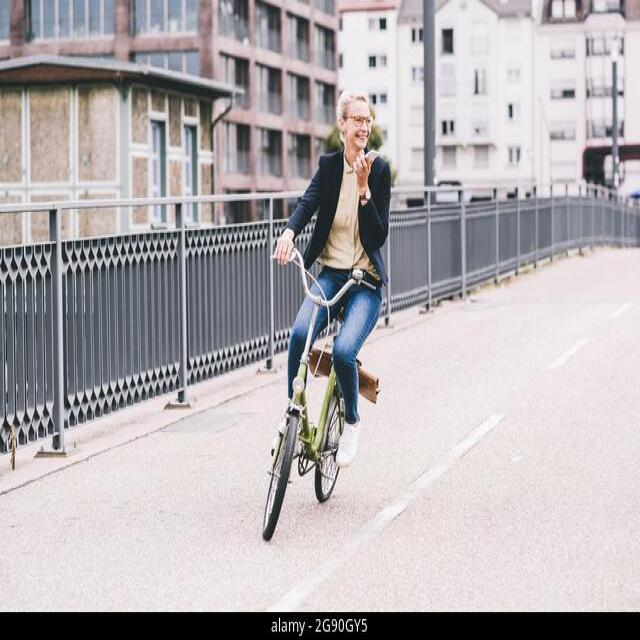Not Wearing Helmet: (335, 75, 374, 193)
Usage Of Phone While Riding: (292, 54, 440, 333)
